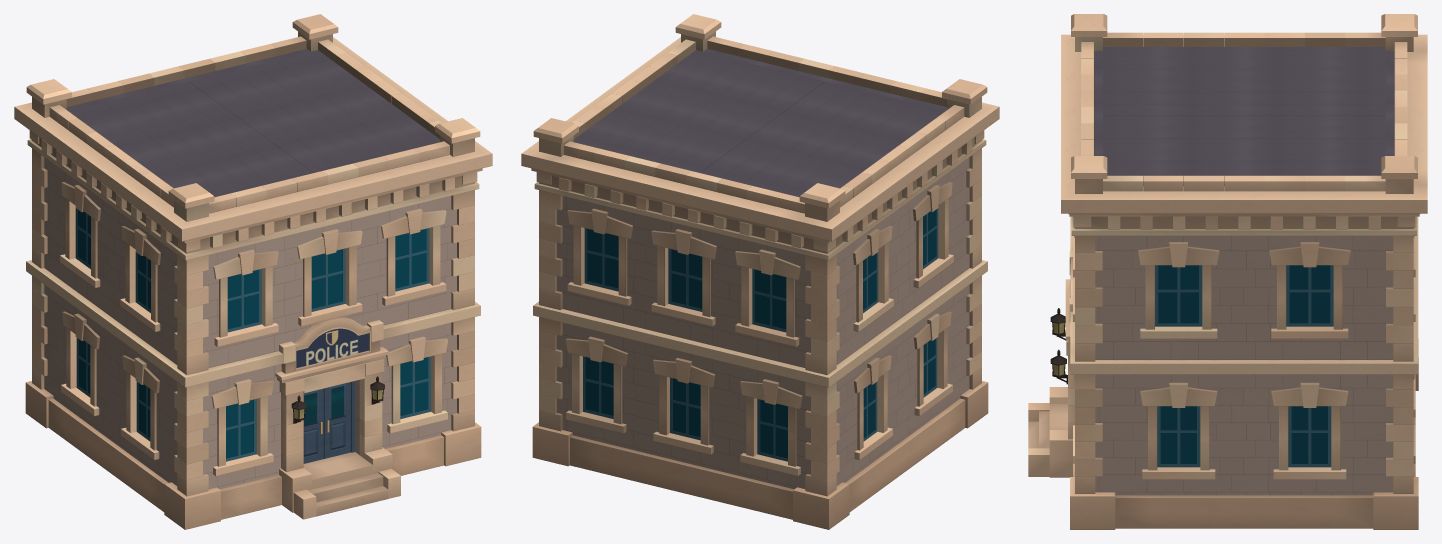
Rendered from houdini_police_station.glb.
3 views of the same model, side by side, from view 1: azimuth 30°, elevation 25°; view 2: azimuth 150°, elevation 25°; view 3: azimuth 270°, elevation 25° (orthographic). The views are drawn at different scales.
Visible parts, largest first — view 1: LOD0; view 2: LOD0; view 3: LOD0.
Boxes of the visible parts, x1=… form: LOD0: x1=14, y1=14, x2=492, y2=529; LOD0: x1=521, y1=14, x2=999, y2=529; LOD0: x1=1028, y1=14, x2=1427, y2=529.
Size of what is drawn, in the model's own units: 9.26 by 9.38 by 9.43.
Materials: 4 (4 with a texture image).
